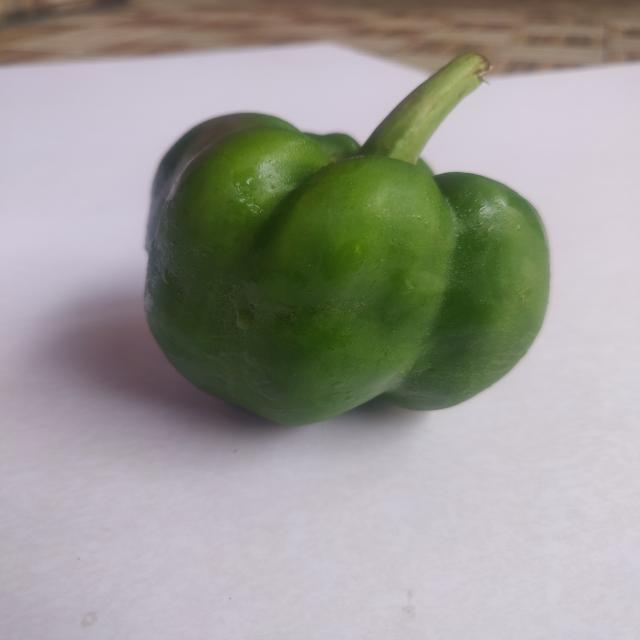Capsicum: (130, 39, 563, 438)
